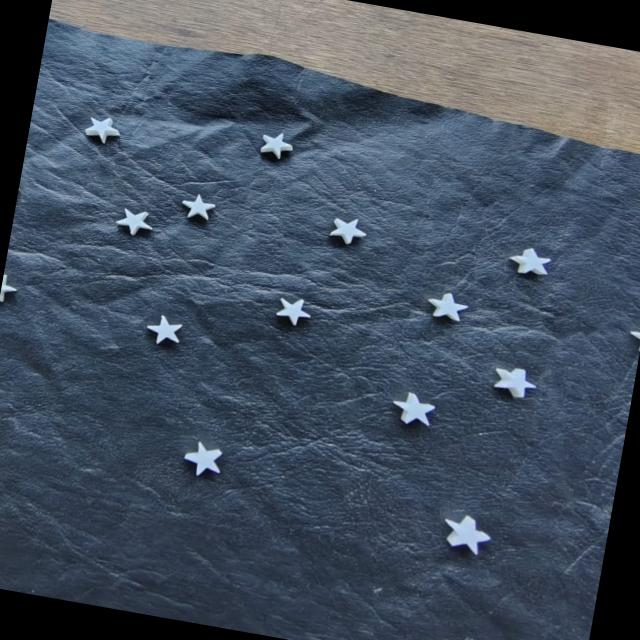estrellas: (449, 519, 490, 554), (395, 395, 433, 427), (182, 443, 220, 474), (431, 294, 467, 321), (146, 316, 181, 343), (500, 370, 536, 396), (278, 299, 311, 325), (516, 248, 549, 274), (116, 209, 149, 234), (331, 219, 365, 241), (261, 133, 293, 155), (184, 195, 215, 217), (85, 118, 115, 140)
